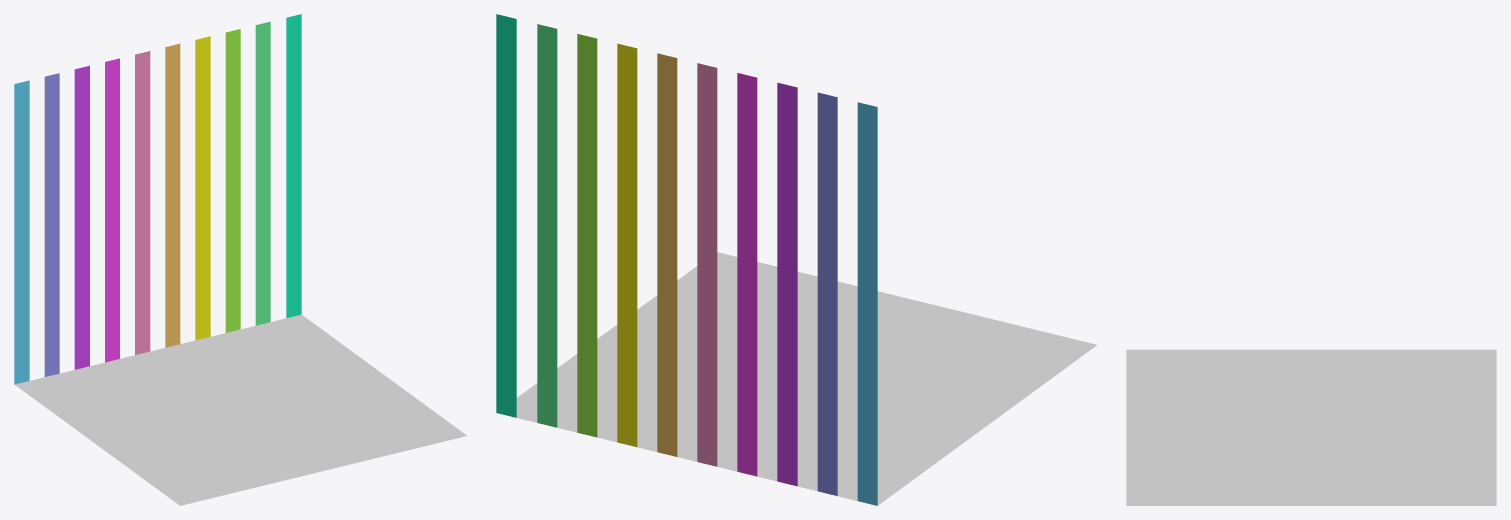
File: rainbow.obj
3 views of the same model, side by side, from view 1: azimuth 30°, elevation 25°; view 2: azimuth 150°, elevation 25°; view 3: azimuth 270°, elevation 25° (orthographic). The views are drawn at different scales.
Visible parts, largest first — view 1: ground, purpleLight, yellowLight, turquoiseLight, cyanLight, orangeLight, dGreenLight, dPurpleLight, pinkLight, greenLight, dPinkLight; view 2: ground, purpleLight, pinkLight, orangeLight, yellowLight, dGreenLight, turquoiseLight, dPinkLight, greenLight, cyanLight, dPurpleLight; view 3: ground.
Boxes of the visible parts, left/top/right/bottom form: ground: left=15, top=314, right=466, bottom=505; purpleLight: left=74, top=65, right=89, bottom=369; yellowLight: left=195, top=36, right=210, bottom=340; turquoiseLight: left=286, top=14, right=301, bottom=318; cyanLight: left=14, top=80, right=29, bottom=384; orangeLight: left=165, top=43, right=180, bottom=347; dGreenLight: left=255, top=21, right=270, bottom=325; dPurpleLight: left=44, top=73, right=59, bottom=376; pinkLight: left=135, top=51, right=150, bottom=354; greenLight: left=225, top=29, right=240, bottom=332; dPinkLight: left=105, top=58, right=119, bottom=362; ground: left=516, top=252, right=1096, bottom=505; purpleLight: left=777, top=82, right=797, bottom=486; pinkLight: left=697, top=63, right=717, bottom=466; orangeLight: left=657, top=53, right=677, bottom=456; yellowLight: left=617, top=43, right=637, bottom=447; dGreenLight: left=537, top=24, right=557, bottom=427; turquoiseLight: left=496, top=14, right=516, bottom=417; dPinkLight: left=737, top=73, right=757, bottom=476; greenLight: left=577, top=34, right=597, bottom=437; cyanLight: left=857, top=102, right=877, bottom=505; dPurpleLight: left=817, top=92, right=837, bottom=495; ground: left=1126, top=349, right=1496, bottom=505.
Size of the model in its own units: 4 by 4 by 4.
